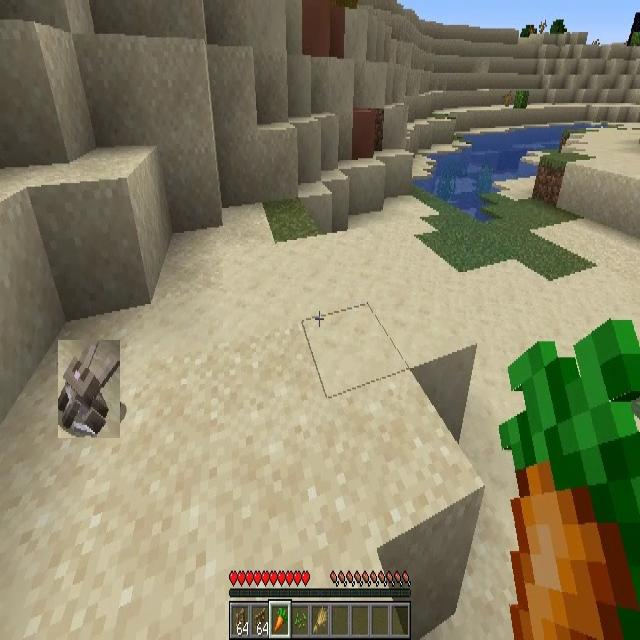rabbit: (58, 340, 120, 438)
